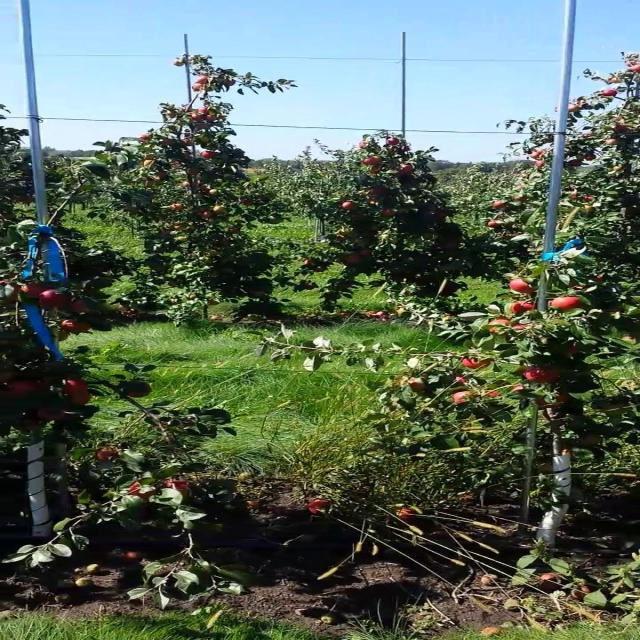apple: (4, 380, 42, 397), (522, 366, 560, 382), (38, 289, 69, 306), (549, 296, 584, 311), (129, 481, 158, 499), (536, 394, 569, 409), (122, 381, 151, 398), (60, 320, 91, 334), (20, 282, 47, 298), (36, 408, 69, 421), (507, 300, 536, 314), (13, 418, 42, 432), (164, 479, 189, 495), (509, 278, 533, 294), (487, 316, 511, 332), (307, 499, 331, 515), (64, 379, 87, 395), (460, 358, 491, 369), (96, 446, 118, 461), (69, 390, 91, 405), (451, 390, 473, 405), (578, 434, 602, 446), (2, 284, 18, 302), (407, 378, 424, 392), (69, 299, 87, 312), (0, 369, 16, 383), (564, 344, 578, 356), (34, 380, 49, 391), (484, 390, 502, 398), (511, 385, 527, 392), (511, 324, 529, 330), (456, 376, 467, 383), (562, 448, 571, 456)
